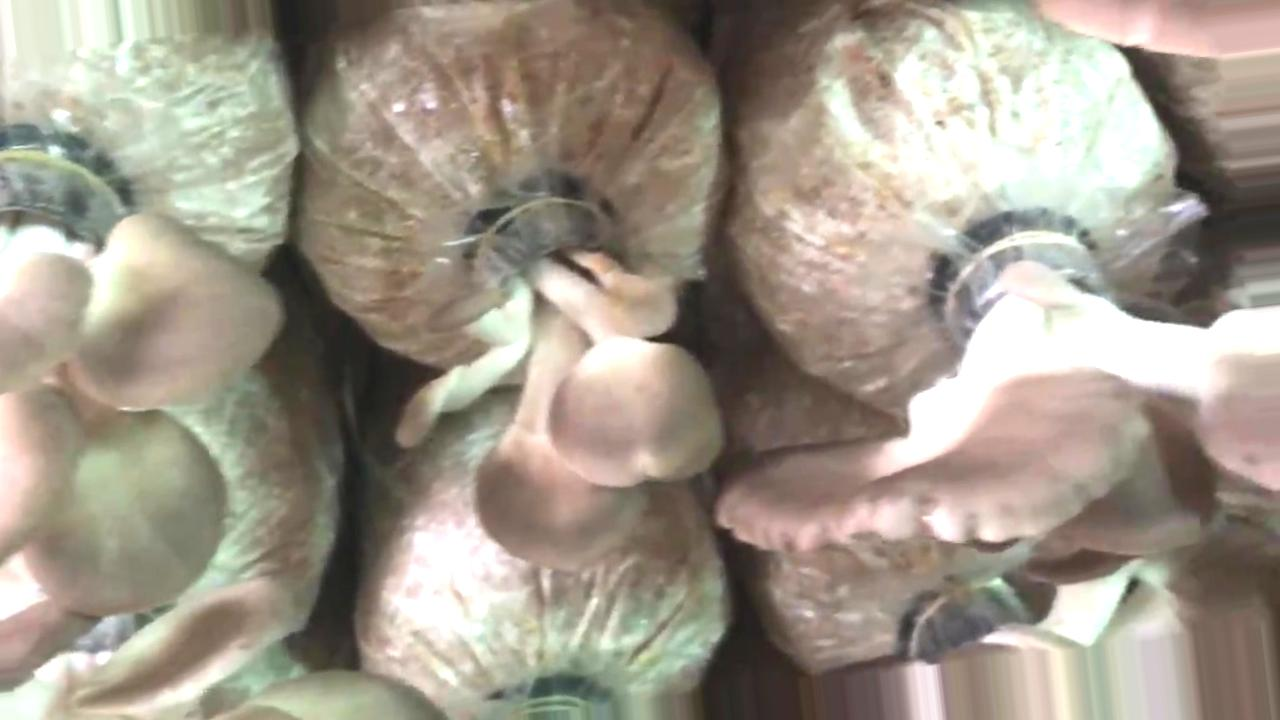nam: (710, 209, 1280, 570), (391, 182, 727, 584), (1, 146, 288, 613)
